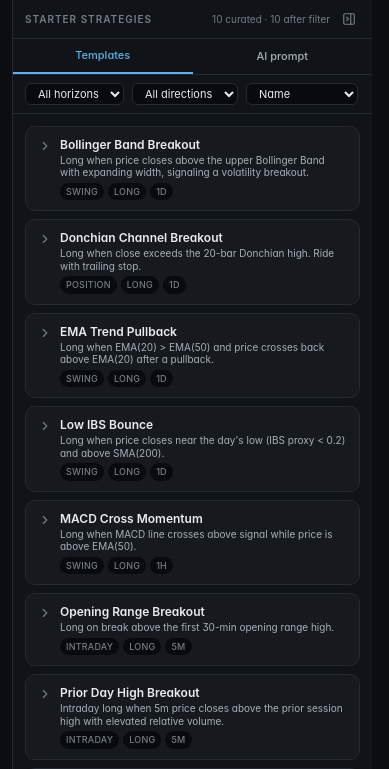
Test: <StarterStrategyPanel /> › clicking AI prompt tab switches to AI content
This screenshot has width=389, height=769.
Step 1. Click the tab with test id "tab-ai" → (282, 56), box [192,39,372,74]
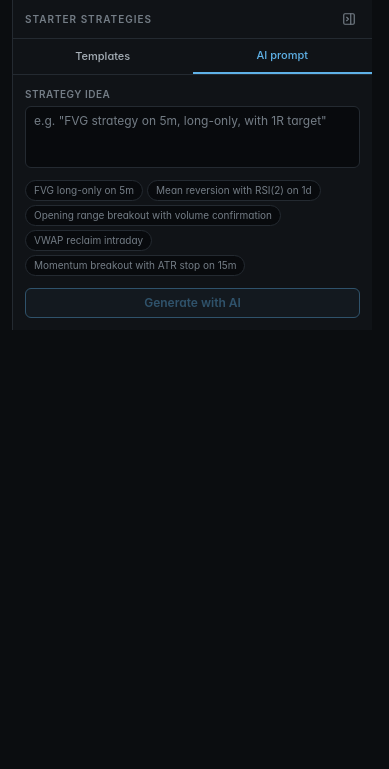
Now the text box named "strategy idea prompt" is shown, box [25,106,360,168]
Now no elements with test id "starter-card" are shown
